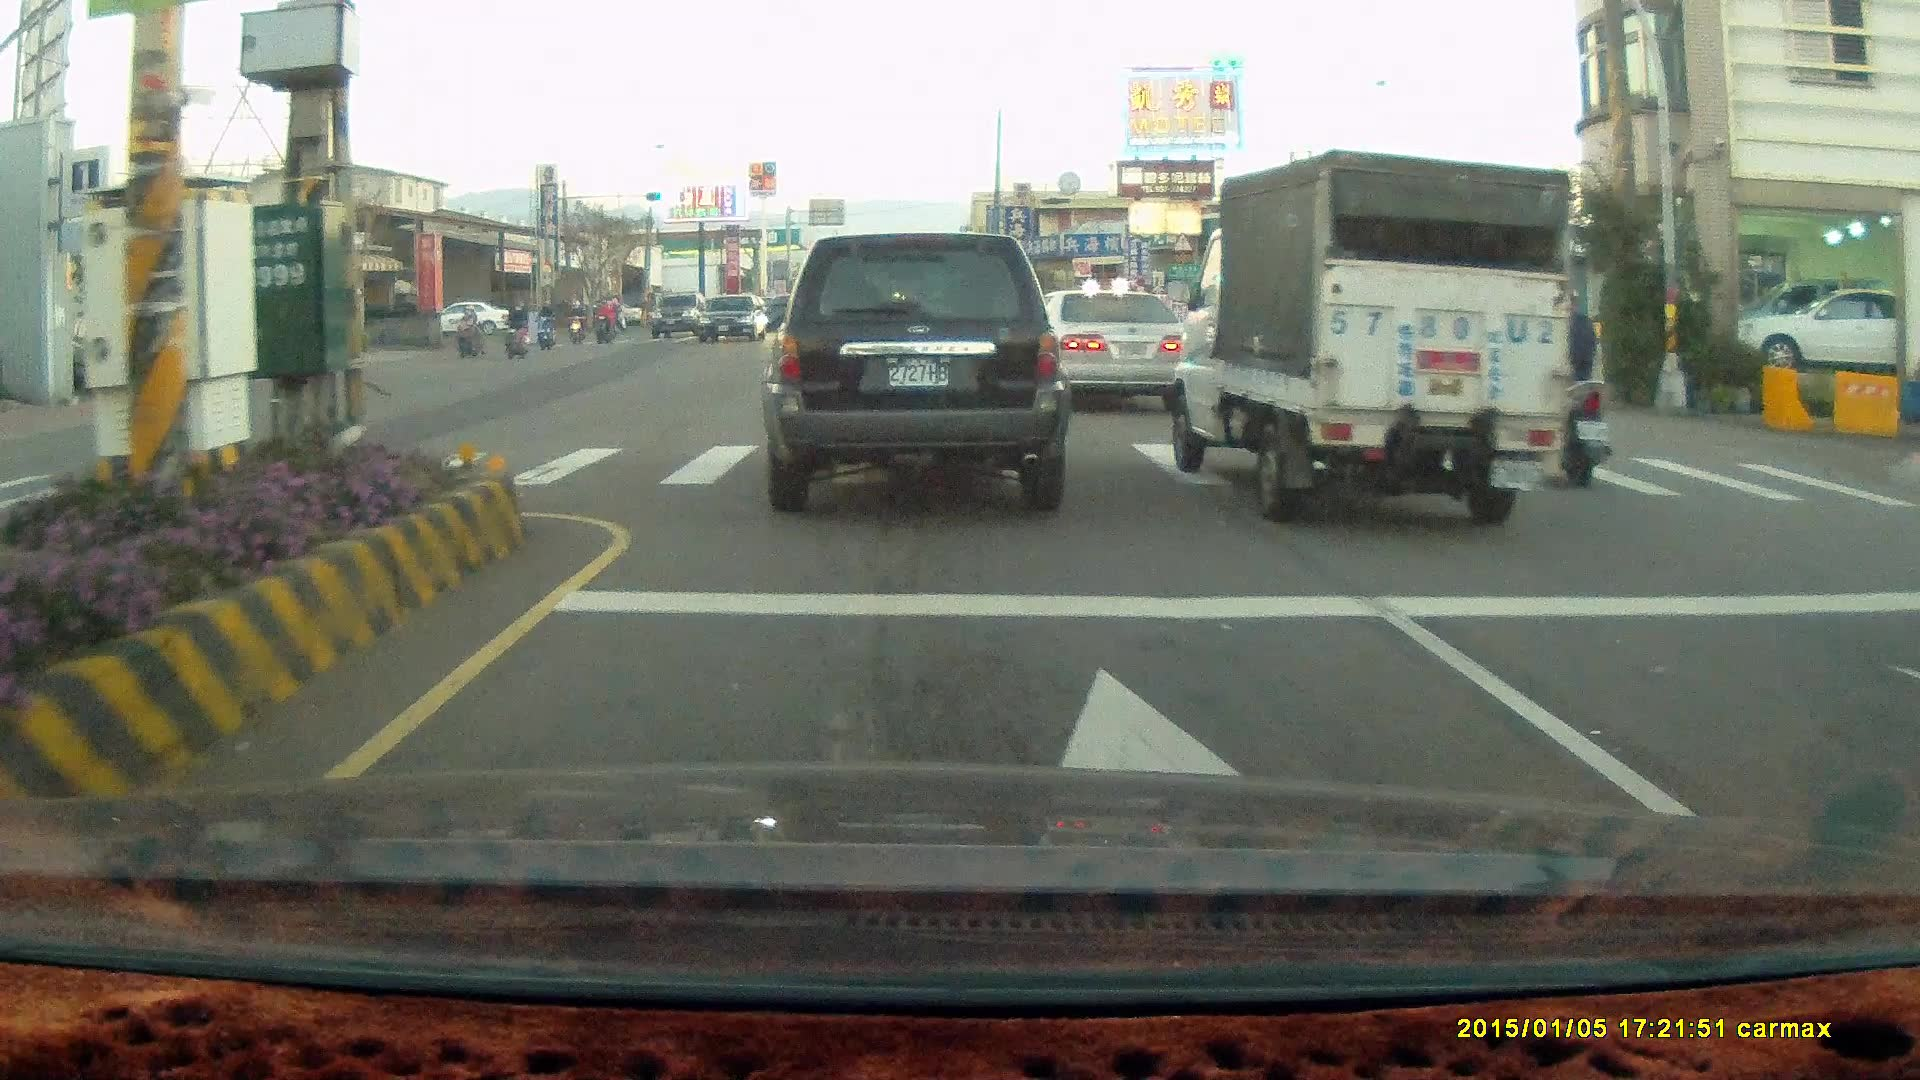rider: (452, 302, 489, 361), (502, 306, 531, 360), (534, 296, 559, 351), (564, 296, 588, 341), (598, 296, 618, 340)
vehicle: (1171, 147, 1574, 527), (760, 230, 1072, 518), (1018, 287, 1192, 409), (1045, 290, 1196, 414), (1733, 283, 1920, 375), (1744, 286, 1898, 376), (59, 314, 166, 392), (697, 295, 769, 347), (441, 301, 514, 338)
